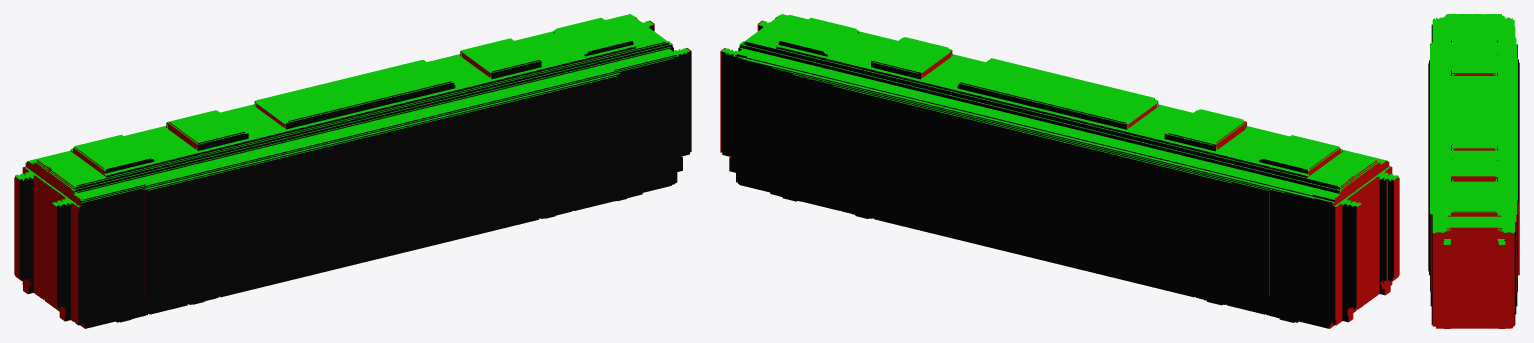
File: city_train_mid.glb
The picture shows the model from 3 angles, left to right: view 1: azimuth 30°, elevation 25°; view 2: azimuth 150°, elevation 25°; view 3: azimuth 270°, elevation 25°; orthographic projection. The views are drawn at different scales.
Parts seen in each view (by area): view 1: city_train_mid; view 2: city_train_mid; view 3: city_train_mid.
Part boxes in pixels (x1,y1,x2,y2): city_train_mid: (14, 14, 691, 328); city_train_mid: (720, 14, 1399, 328); city_train_mid: (1428, 14, 1519, 328).
Bounding box in the file's own units: 20 × 4.72 × 3.38.
